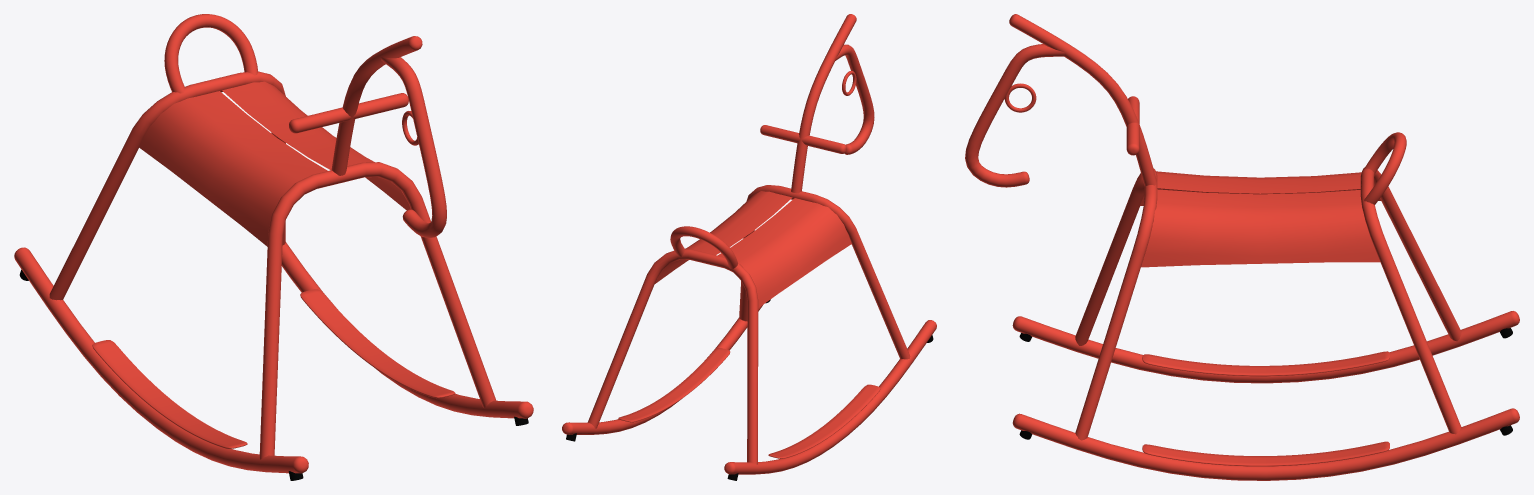
File: MEGA_PACK_kid__kid_ADADA-ROCKING-HORSE_1.glb
3 views of the same model, side by side, from view 1: azimuth 30°, elevation 25°; view 2: azimuth 150°, elevation 25°; view 3: azimuth 270°, elevation 25° (orthographic). The views are drawn at different scales.
Visible parts, largest first — view 1: kid_ADADA-ROCKING-HORSE_1; view 2: kid_ADADA-ROCKING-HORSE_1; view 3: kid_ADADA-ROCKING-HORSE_1.
Boxes of the visible parts, <box> form: kid_ADADA-ROCKING-HORSE_1: <box>14,14,533,480</box>; kid_ADADA-ROCKING-HORSE_1: <box>562,14,936,480</box>; kid_ADADA-ROCKING-HORSE_1: <box>965,14,1519,480</box>.
Size of the model in its own units: 0.3381 by 0.6313 by 0.7617.
1 material, 1 textured.
